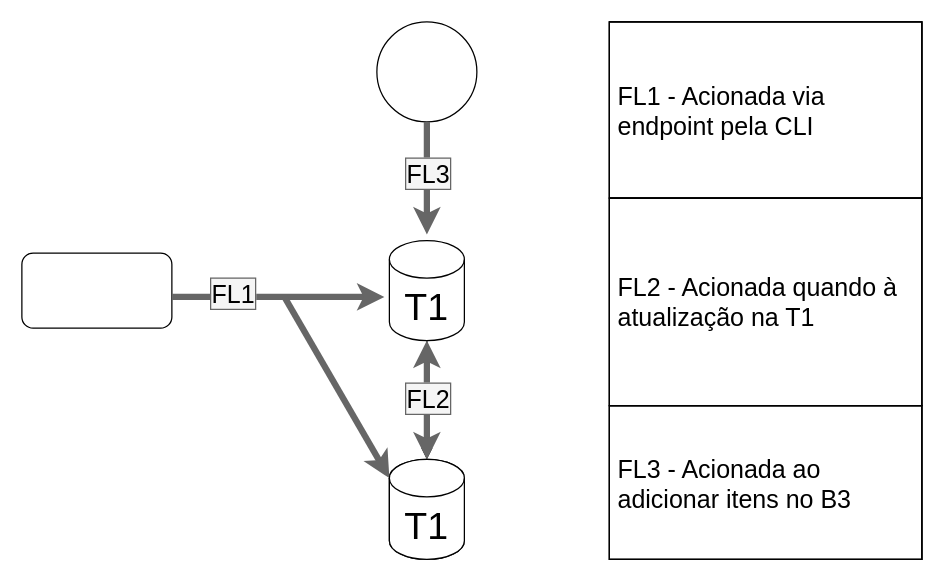
Image size: 944x581. Some labels were removed from this diagram. The box of each missing label's shape, as (x1, y1, x2, y2) in pixels:
B3: (376, 21, 477, 122)
CLI: (21, 252, 172, 328)
